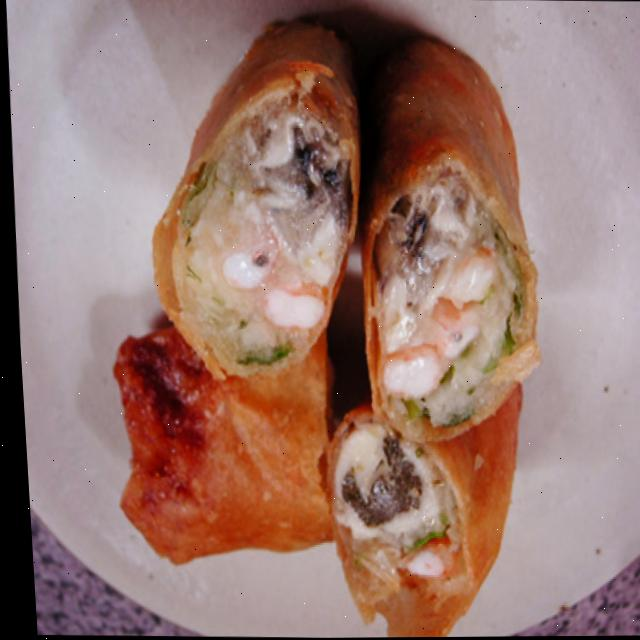鸡蛋料理: (71, 0, 560, 640)
